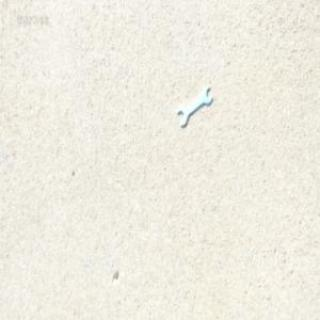Wrenchtrack_idkeyframe: (176, 86, 210, 126)
